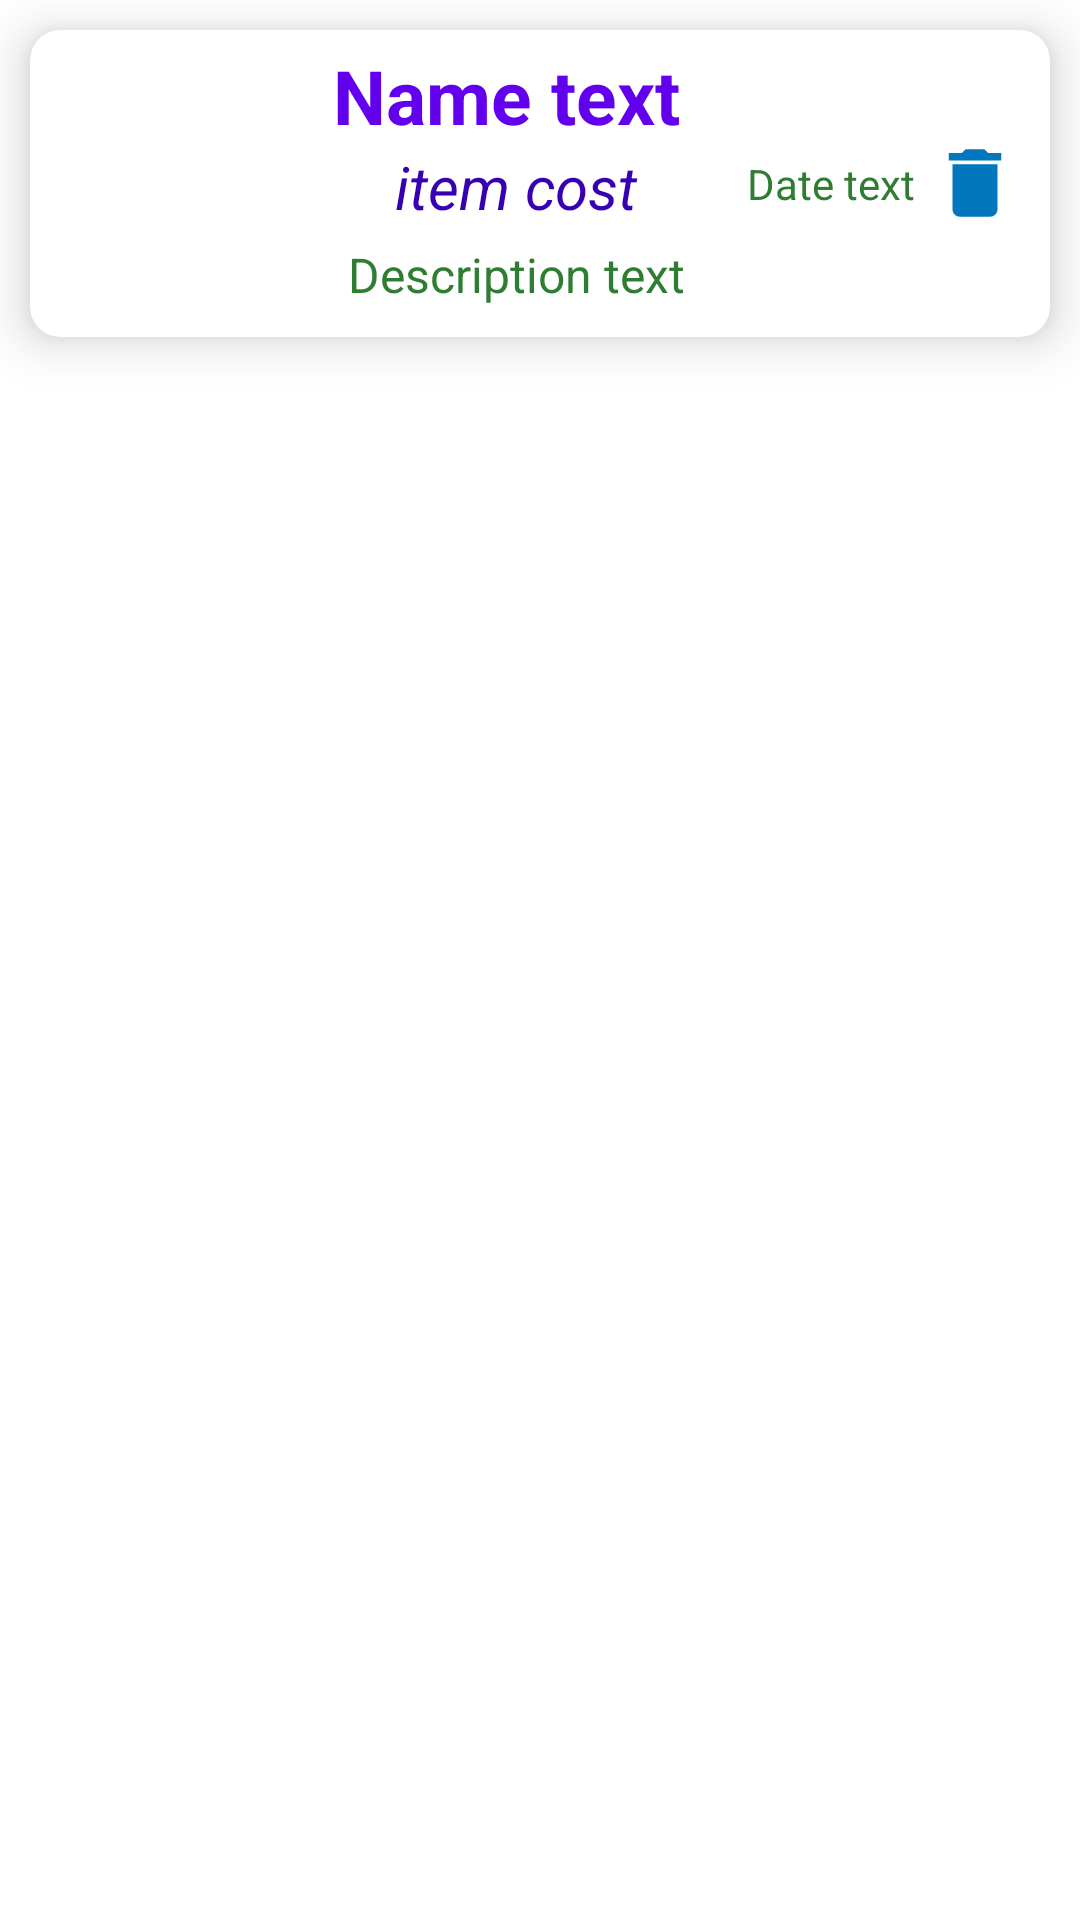

Where icons sit on this 1080px x 1920px app screen, as (x1, y1, x2, y2):
delete: (948, 149, 1002, 217)
